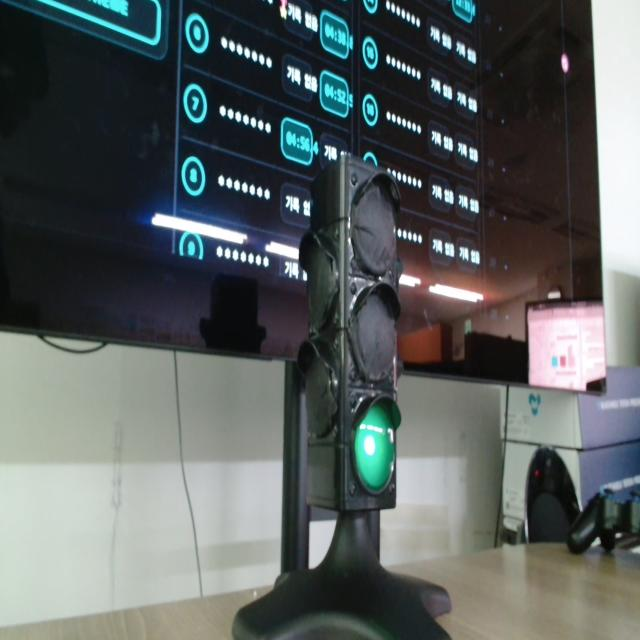green_light: (354, 405, 394, 493)
